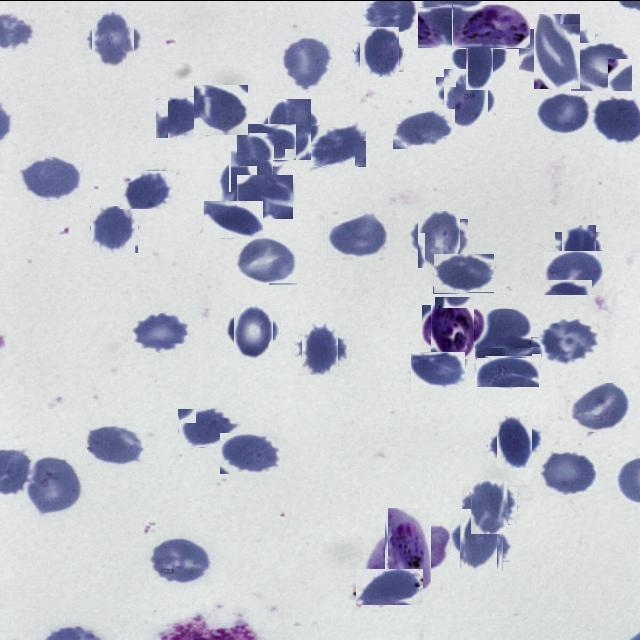gametocyte: (376, 516, 440, 580)
red blood cell: (526, 20, 588, 81), (24, 456, 82, 512), (234, 236, 298, 285), (150, 535, 213, 584), (570, 42, 632, 91), (278, 36, 334, 90), (570, 382, 630, 432), (327, 212, 389, 258), (455, 513, 508, 566), (225, 154, 278, 206), (19, 156, 81, 200), (440, 72, 492, 124), (264, 102, 316, 154), (543, 250, 603, 295), (194, 84, 248, 134), (540, 449, 598, 495), (88, 12, 139, 64), (540, 317, 594, 365), (220, 432, 282, 473), (85, 425, 146, 466), (414, 214, 464, 264), (393, 108, 455, 148), (237, 174, 293, 218), (536, 90, 593, 133), (433, 252, 494, 292), (356, 568, 423, 604), (308, 125, 366, 166), (132, 312, 190, 352), (473, 308, 531, 348), (230, 306, 278, 354), (178, 408, 237, 447), (418, 6, 474, 47), (203, 200, 263, 238), (90, 205, 138, 252), (236, 123, 296, 160), (466, 482, 513, 528), (474, 336, 541, 368), (155, 96, 206, 138), (120, 170, 176, 208), (356, 28, 402, 74), (411, 351, 465, 389), (492, 419, 536, 464), (298, 326, 343, 370), (476, 357, 539, 387), (458, 40, 500, 82), (558, 228, 600, 268)
schizont: (426, 300, 480, 354)
trophozoite: (452, 4, 530, 48)
